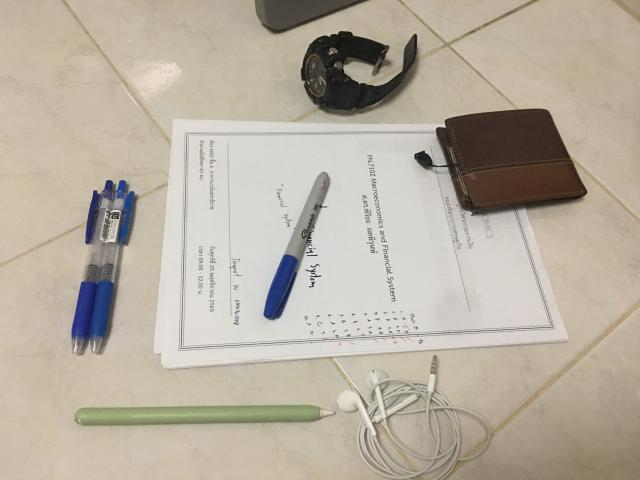Pen: (264, 171, 330, 319), (89, 180, 134, 354), (71, 180, 112, 354)
Wallet: (436, 109, 586, 211)
Watch: (301, 31, 418, 110)
paper: (154, 119, 568, 369)
wire: (338, 356, 491, 479)
